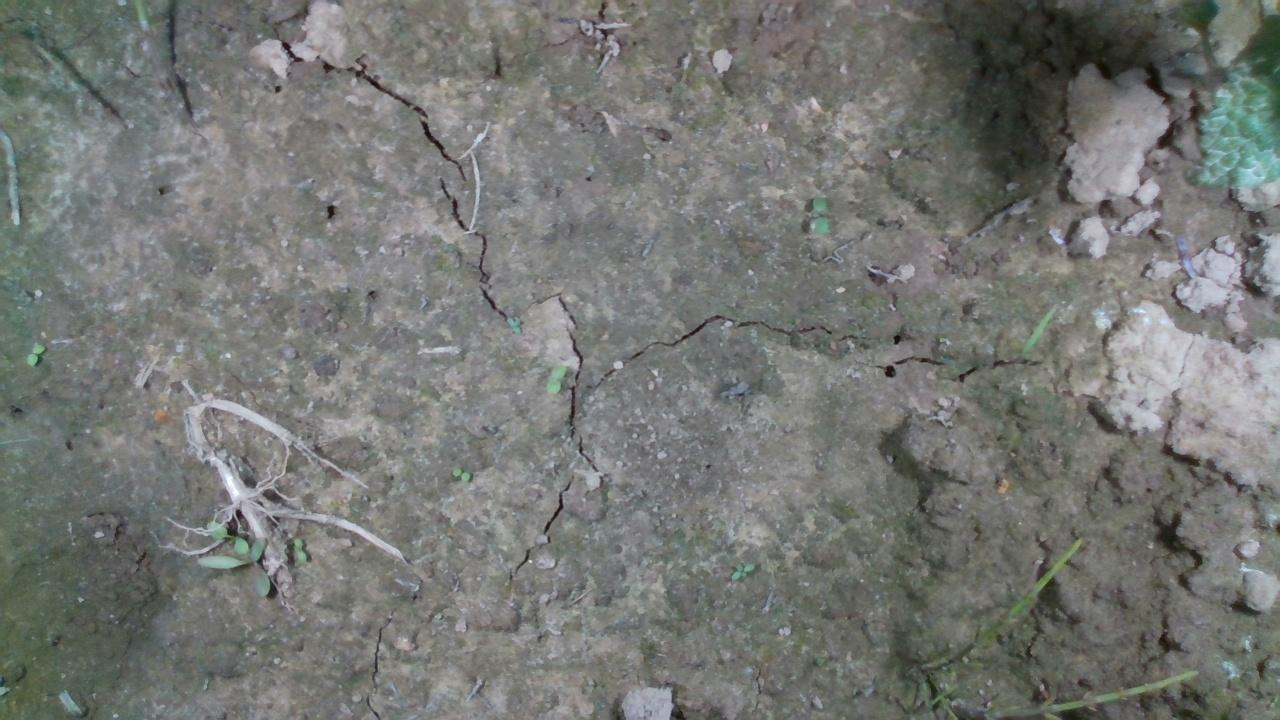weed: (810, 196, 830, 234), (545, 361, 566, 394), (732, 561, 756, 580), (25, 342, 43, 366), (292, 535, 307, 563), (448, 465, 469, 481)
